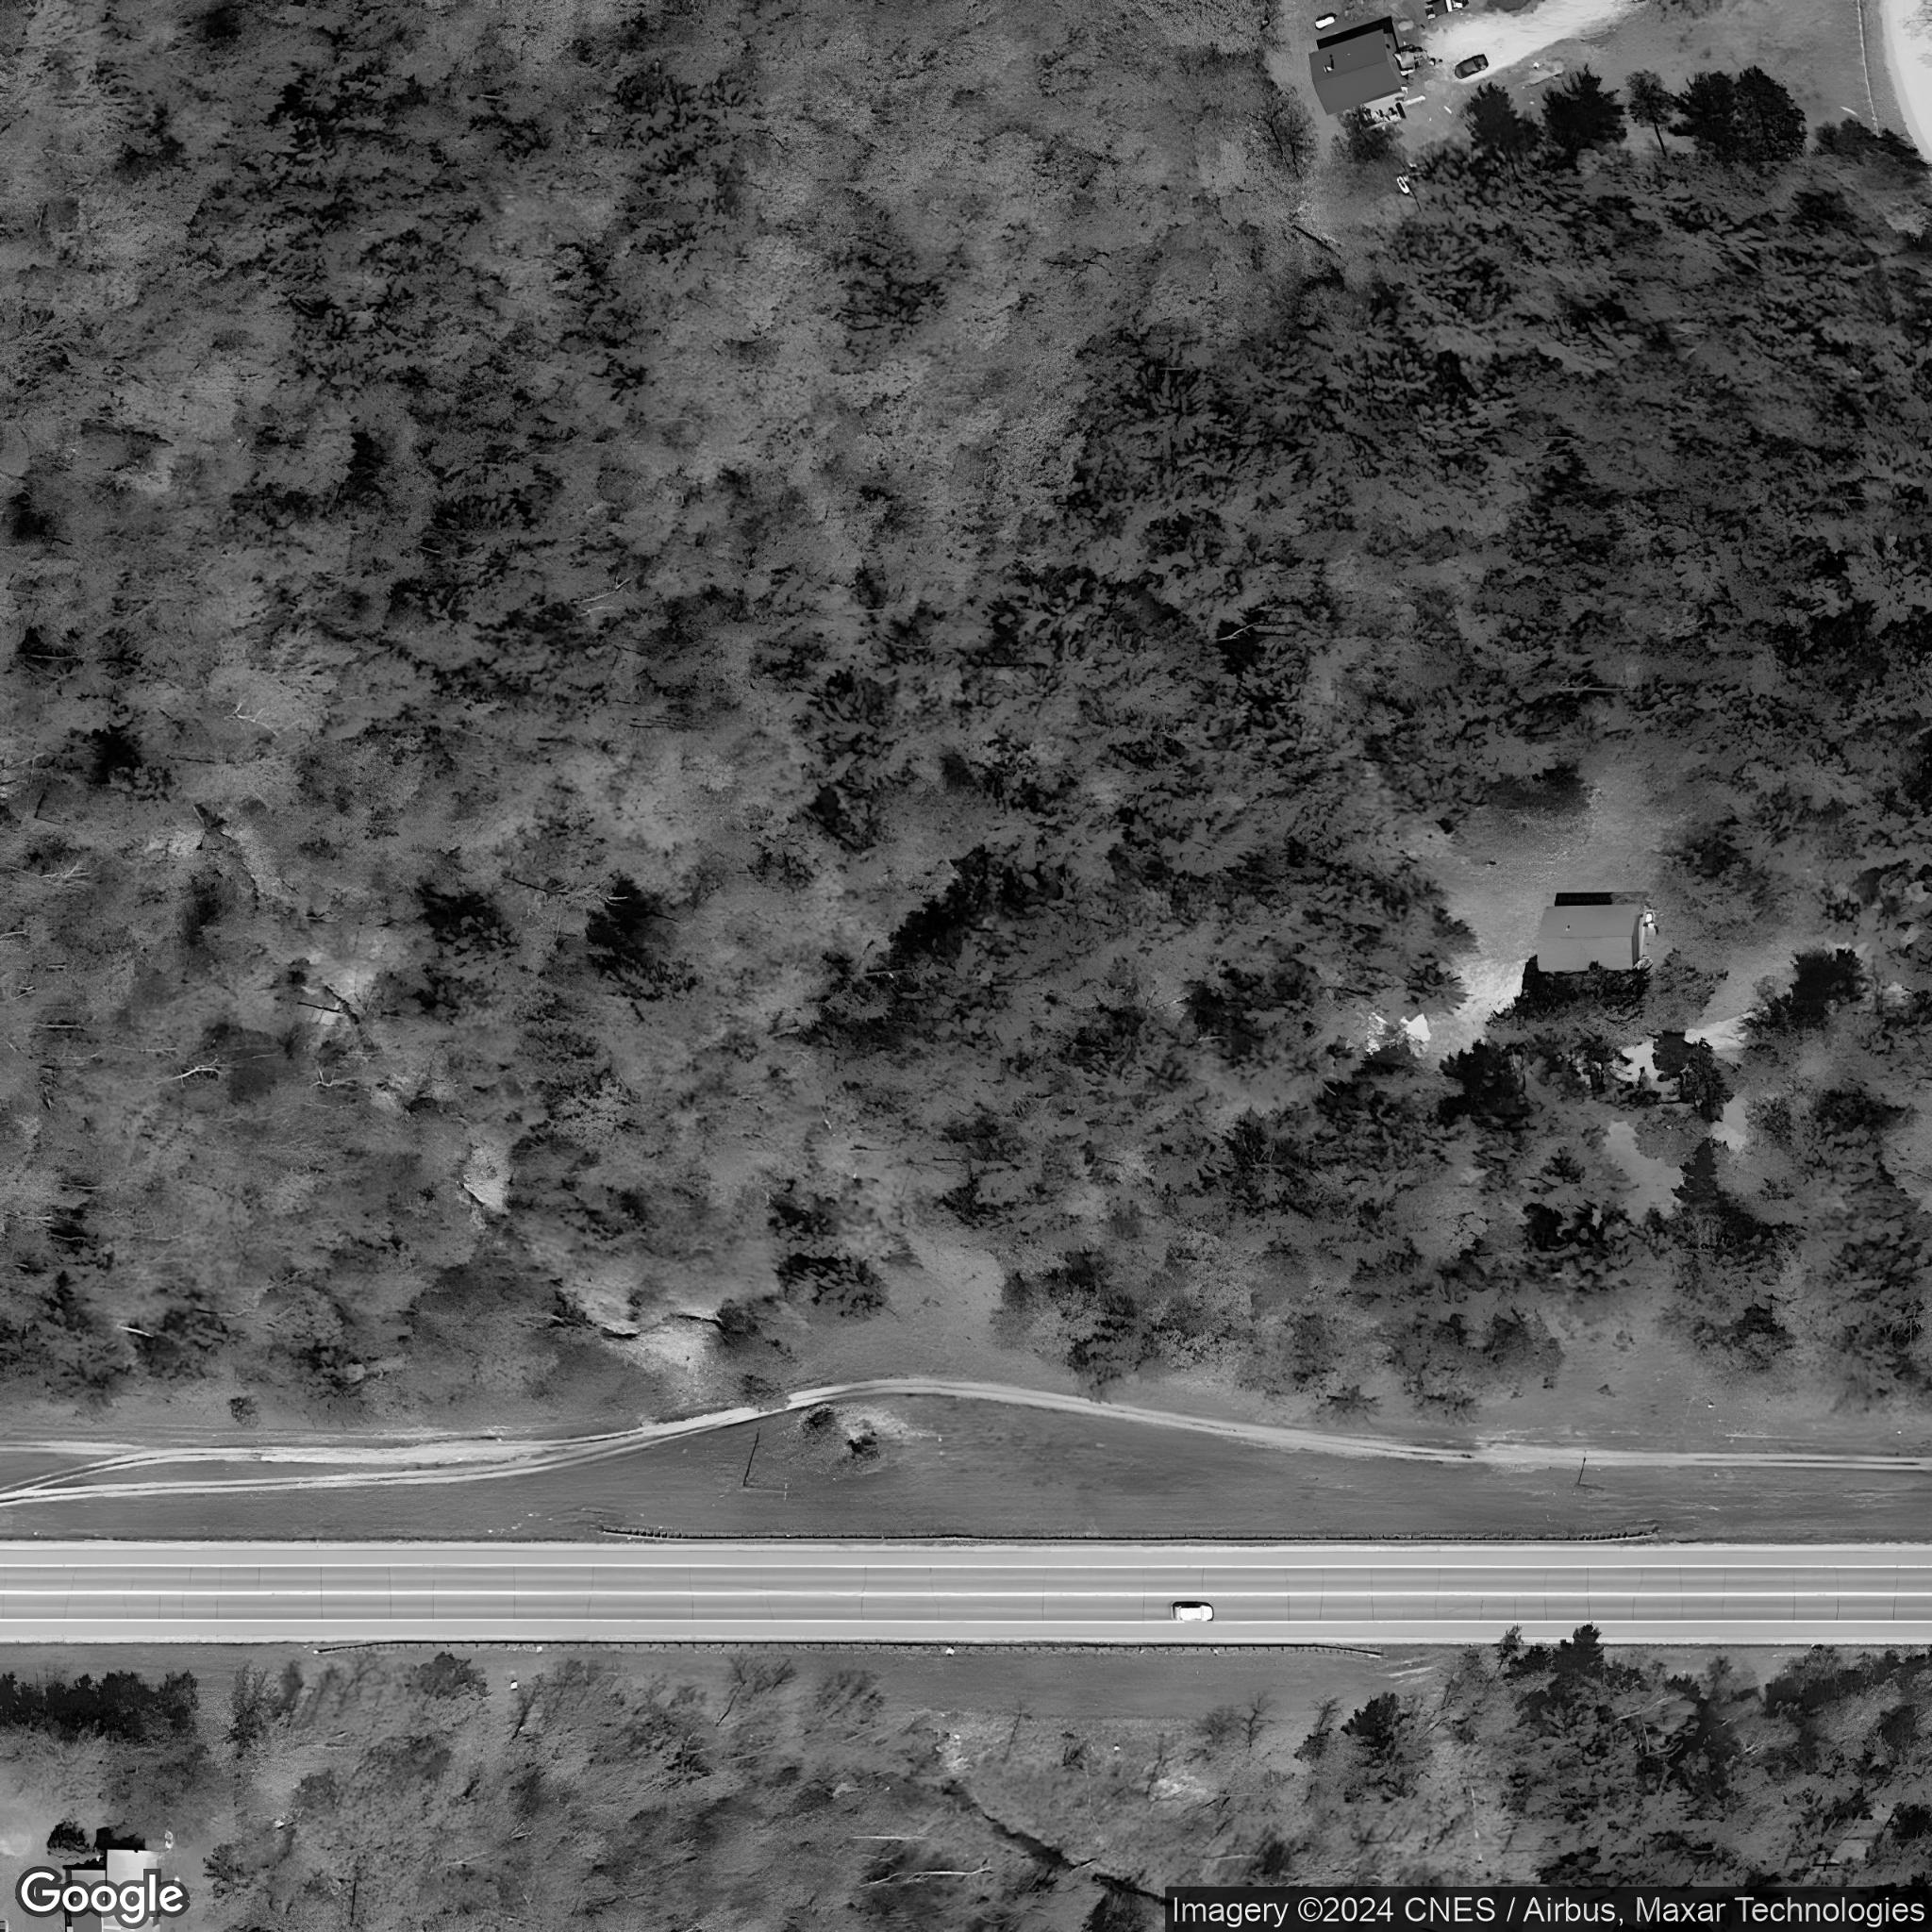House: (1307, 27, 1414, 120), (1534, 901, 1645, 977), (65, 1849, 159, 1932)
Propane: (1311, 9, 1338, 32)
